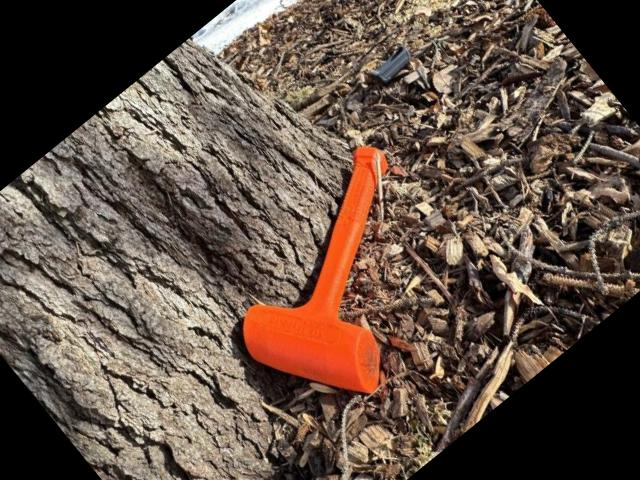hammer: (191, 138, 495, 436)
